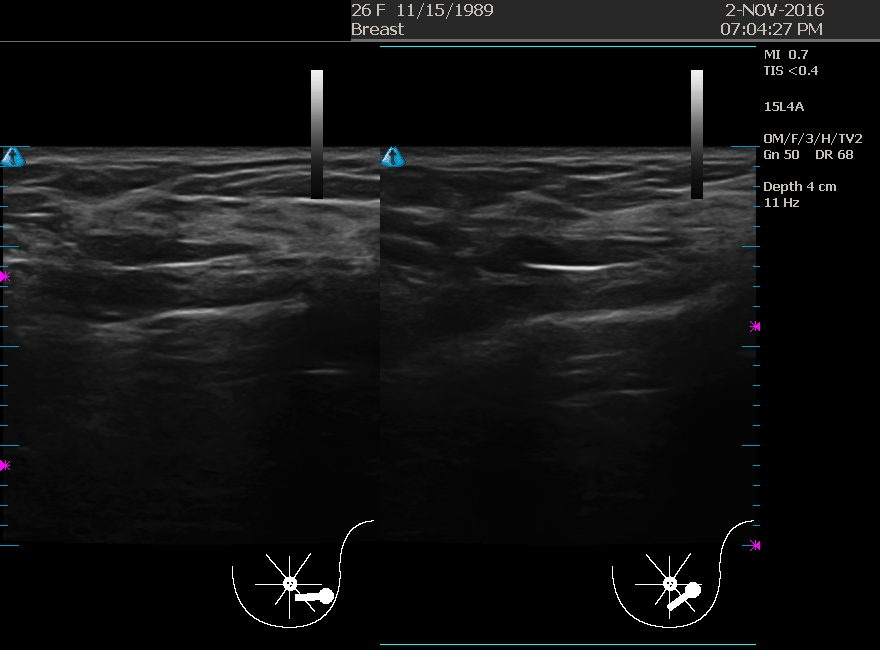BIRADS_3: (63, 168, 263, 368), (483, 150, 683, 350)
